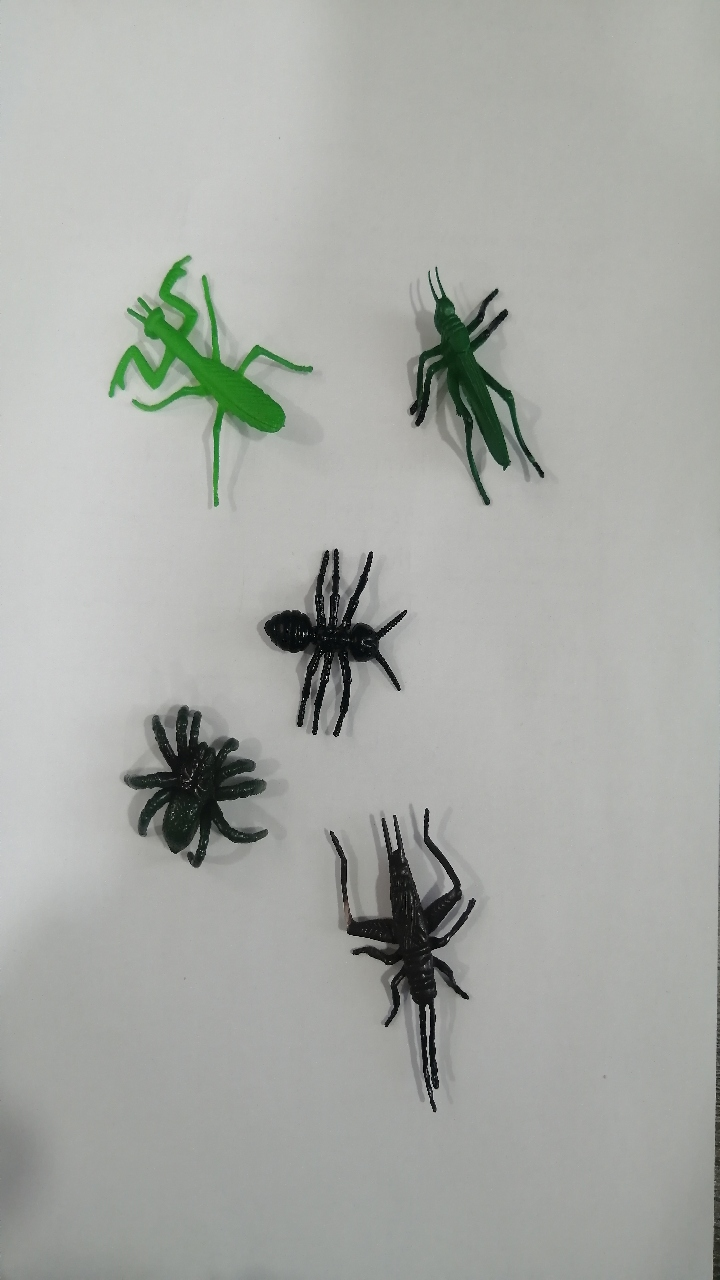intruso: (295, 780, 506, 1160), (57, 232, 332, 520), (374, 239, 572, 546), (98, 671, 284, 899), (255, 520, 417, 743)
